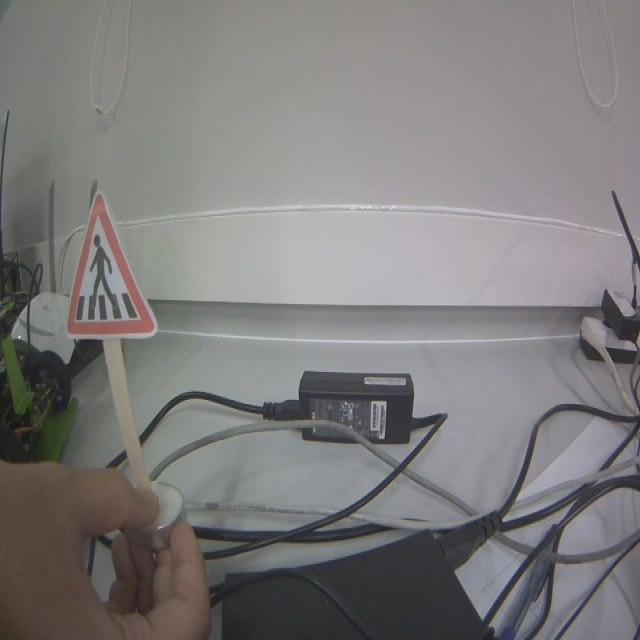Rambu Penyebrangan: (67, 194, 159, 338)
